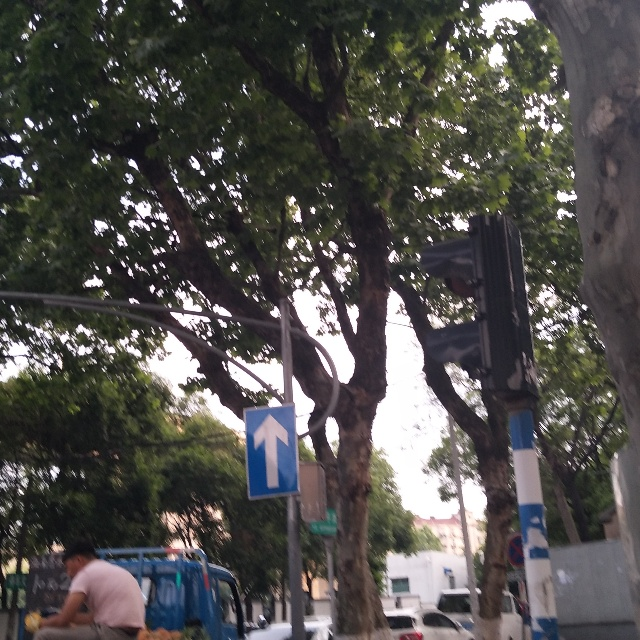straight: (240, 406, 300, 497)
